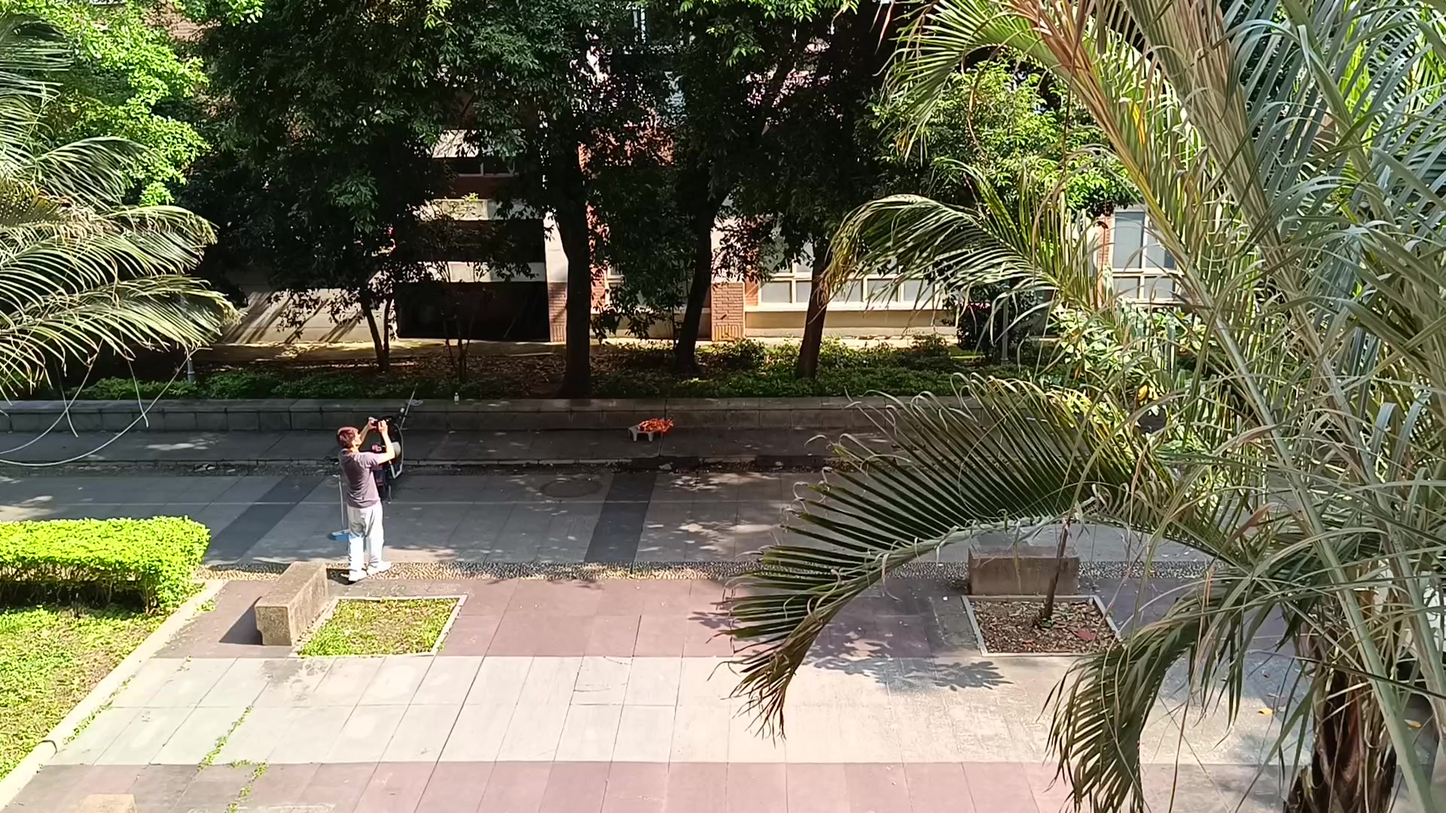fire: (638, 416, 674, 431)
